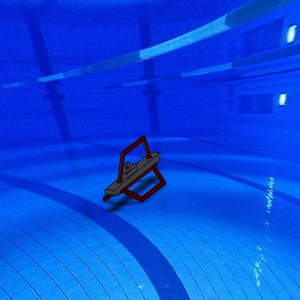submarine: (97, 133, 171, 209)
